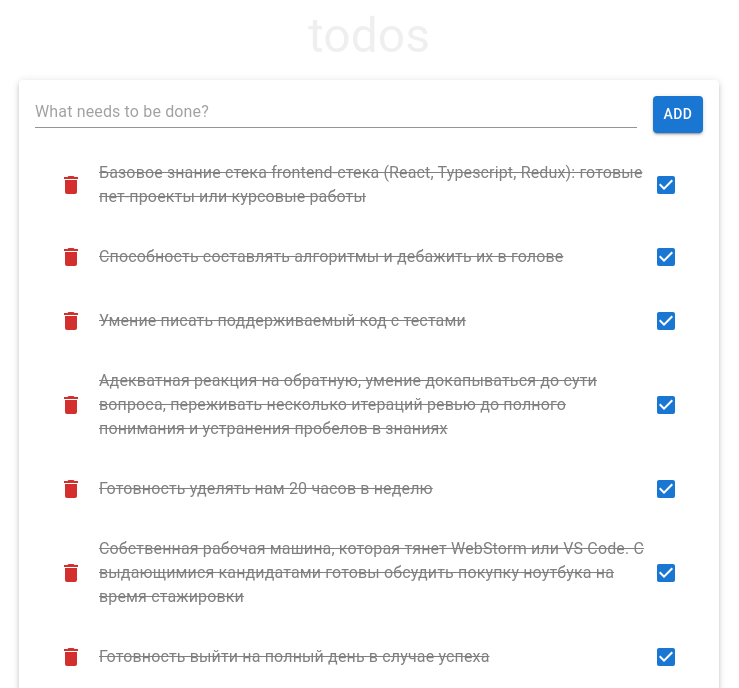
Test: App (ключевая функциональность) › добавляет новую задачу
The image size is (739, 688).
In the field with placeholder "What needs to be done?": (336, 112) [35, 96, 637, 128], type "Test Task"
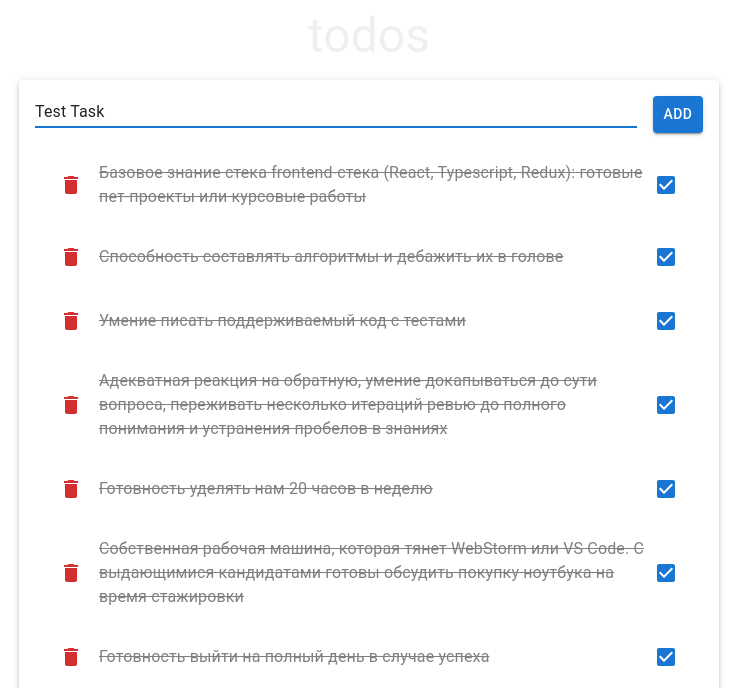
Click the button "add": (678, 114) [653, 96, 703, 132]
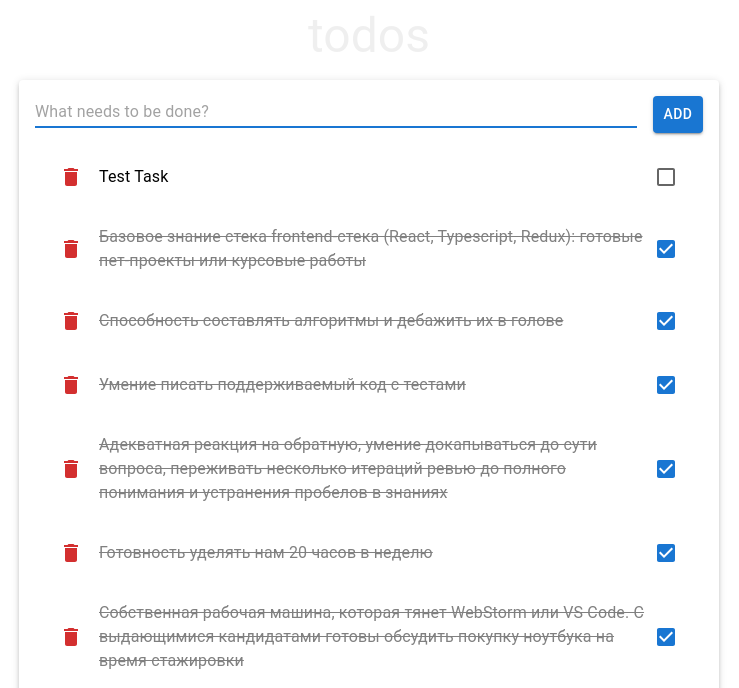
Expected: the text "Test Task" is shown, [99, 166, 168, 186]
Expected: the field with placeholder "What needs to be done?" is empty, [35, 96, 637, 128]
